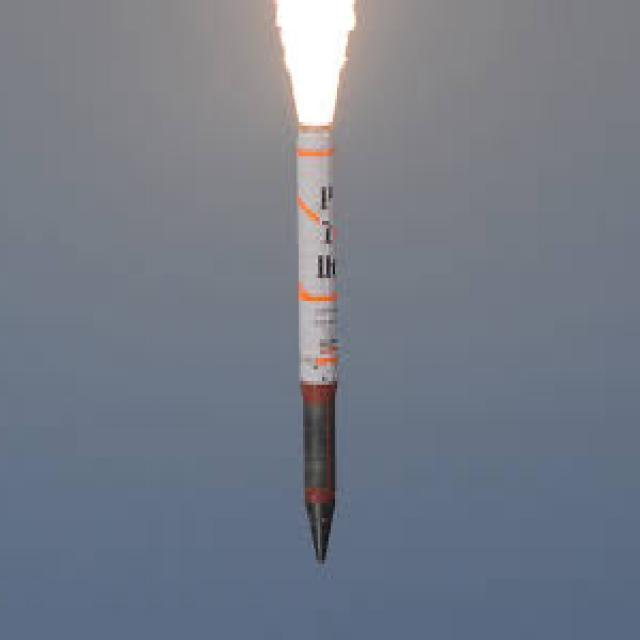missile: (285, 117, 343, 562)
